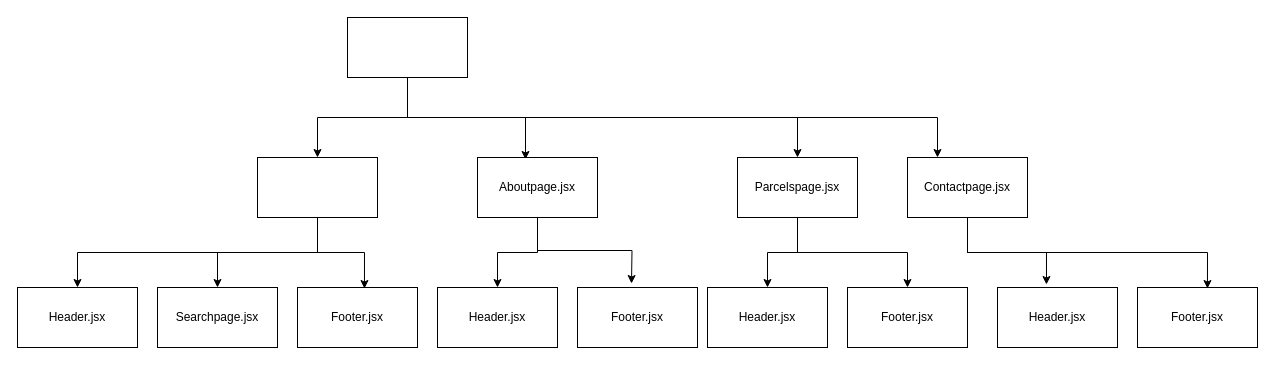
Some shapes in this 1275 by 365 pixel diagram are drawn without their labels. Each missing label, with the centre of its shape:
App.jsx: [407,47]
Homepage.jsx: [317,187]
